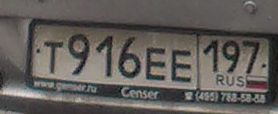character: (118, 36, 143, 83), (66, 34, 92, 79), (94, 34, 118, 79), (142, 45, 169, 83), (168, 46, 194, 85), (41, 39, 66, 78), (240, 39, 263, 77), (221, 39, 244, 76), (202, 39, 221, 74)
